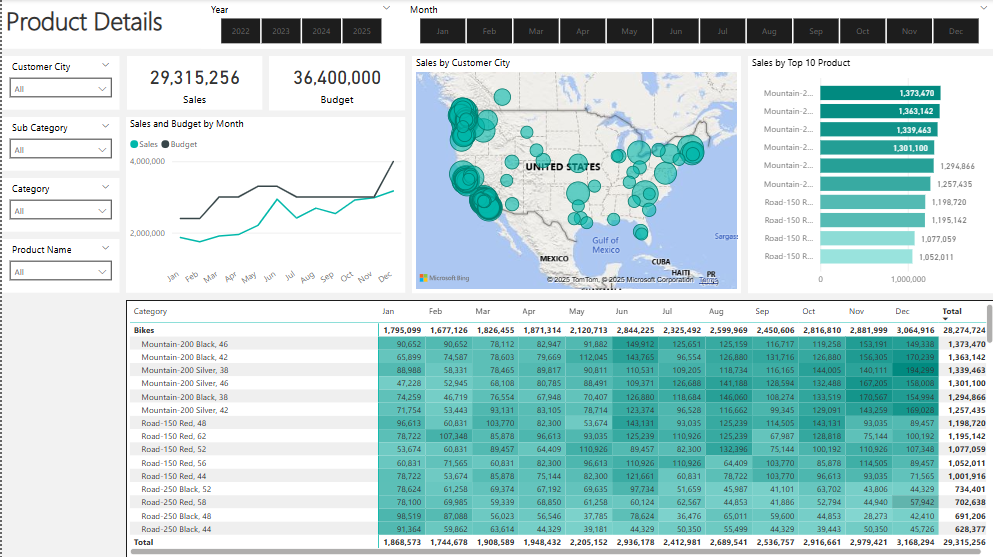

Layout of this report page (visuals, bound fields, positions):
{"tool":"powerbi","page":{"name":"Product Details","canvas":[1280,720],"ordinal":2},"visuals":[{"type":"textbox","box":[0,0,1280,64],"z":0},{"type":"slicer","fields":{"Values":["DIM_Calendar.Year"]},"box":[256,0,256,64],"z":1000},{"type":"slicer","fields":{"Values":["DIM_Calendar.MonthShort"]},"box":[512,0,768,64],"z":2000},{"type":"slicer","fields":{"Values":["DIM_Customers.Customer City"]},"box":[0,73,150.5,69.3],"z":3000},{"type":"slicer","fields":{"Values":["DIM_Products.Product Category"]},"box":[0,229.9,150.5,69.3],"z":4000},{"type":"slicer","fields":{"Values":["DIM_Products.Product Name"]},"box":[0,308.4,150.5,69.3],"z":5000},{"type":"slicer","fields":{"Values":["DIM_Products.Sub Category"]},"box":[0,151.4,150.5,69.3],"z":6000},{"type":"lineChart","fields":{"Category":["DIM_Calendar.MonthShort"],"Y":["Analysis Metrics.Sales","Analysis Metrics.Budget"]},"box":[159.8,151.8,358.7,226.4],"z":7000},{"type":"card","fields":{"Values":["Analysis Metrics.Sales"]},"box":[160.7,72.8,174,69.2],"z":8000},{"type":"map","fields":{"Category":["DIM_Customers.Customer City"],"Size":["Analysis Metrics.Sales"]},"box":[527.3,72.8,423.5,304.5],"z":9000},{"type":"card","fields":{"Values":["Analysis Metrics.Budget"]},"box":[343.6,72.8,174.9,70.1],"z":10000},{"type":"pivotTable","fields":{"Rows":["DIM_Products.Product Category","DIM_Products.Product Name"],"Columns":["DIM_Calendar.MonthShort"],"Values":["Analysis Metrics.Sales"]},"box":[159.8,387.1,1120.4,332.9],"z":11000},{"type":"clusteredBarChart","title":"Sales by Top 10 Product","fields":{"Category":["DIM_Products.Product Name"],"Y":["Analysis Metrics.Sales"]},"box":[959.7,72.8,320.5,304.5],"z":12000}]}

Visuals, with their boxes in screenshot pixels (x1, y1, x2, y2), scaled from the page's 1280x720 canvas onto the 993x557 screenshot:
textbox: 0,0,992,50
slicer - DIM_Calendar.Year: 199,0,397,50
slicer - DIM_Calendar.MonthShort: 397,0,992,50
slicer - DIM_Customers.Customer City: 0,56,117,110
slicer - DIM_Products.Product Category: 0,178,117,231
slicer - DIM_Products.Product Name: 0,239,117,292
slicer - DIM_Products.Sub Category: 0,117,117,171
lineChart - DIM_Calendar.MonthShort x Analysis Metrics.Sales: 124,117,402,293
card - Analysis Metrics.Sales: 125,56,260,110
map - DIM_Customers.Customer City x Analysis Metrics.Sales: 409,56,738,292
card - Analysis Metrics.Budget: 267,56,402,111
pivotTable - DIM_Products.Product Category x DIM_Products.Product Name: 124,299,992,556
"Sales by Top 10 Product" clusteredBarChart: 745,56,992,292
